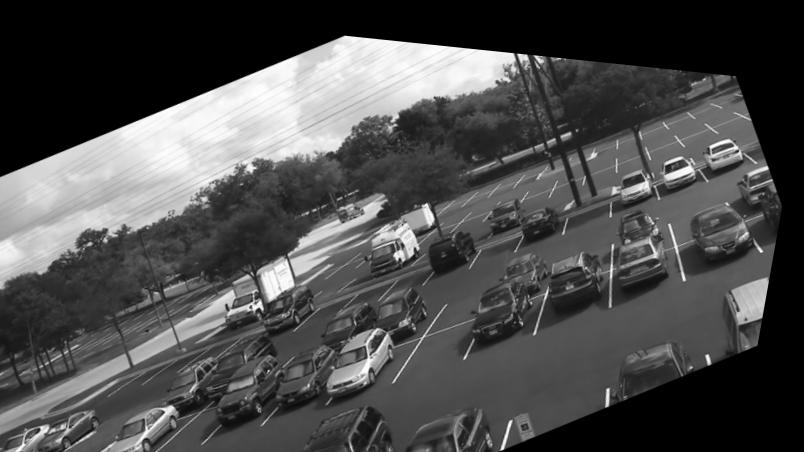empty: (518, 348, 616, 436), (404, 306, 480, 371), (170, 401, 232, 452), (125, 355, 187, 387), (567, 184, 617, 222), (673, 171, 725, 207), (449, 271, 489, 312), (162, 346, 212, 378), (309, 289, 360, 320), (354, 270, 404, 298), (482, 224, 526, 255), (339, 242, 380, 267), (207, 331, 250, 354), (650, 124, 689, 149), (396, 258, 437, 281), (572, 221, 611, 245), (552, 163, 589, 187), (681, 111, 719, 134), (587, 149, 623, 173), (287, 329, 325, 351), (621, 137, 654, 160), (713, 97, 752, 116), (561, 151, 593, 174), (676, 104, 710, 125), (459, 201, 494, 221), (429, 212, 463, 232), (522, 149, 550, 173), (618, 130, 651, 149), (590, 139, 619, 160), (646, 117, 679, 135), (619, 114, 646, 136), (531, 163, 562, 182), (444, 196, 475, 215), (732, 108, 760, 129), (504, 172, 533, 192), (694, 117, 723, 137), (496, 164, 522, 185), (705, 93, 736, 110), (472, 187, 503, 204), (641, 105, 670, 123), (528, 175, 558, 192), (447, 184, 475, 201), (596, 123, 621, 142), (472, 175, 497, 192), (746, 127, 768, 146), (667, 96, 691, 113), (715, 77, 742, 92), (692, 88, 718, 102), (469, 215, 496, 226), (549, 186, 572, 197), (733, 86, 749, 96)
occupied: (417, 391, 511, 452), (319, 394, 416, 452), (342, 317, 416, 388), (717, 256, 777, 339), (230, 348, 297, 421), (632, 318, 702, 386), (691, 182, 759, 249), (481, 265, 545, 334), (287, 336, 352, 402), (558, 235, 612, 304), (123, 400, 194, 452), (624, 215, 677, 279), (266, 277, 327, 331), (223, 329, 286, 377), (378, 208, 428, 268), (331, 291, 390, 341), (51, 406, 114, 452), (435, 220, 486, 273), (178, 350, 228, 404), (386, 276, 439, 325), (512, 240, 556, 282), (757, 164, 787, 219), (706, 121, 748, 159), (528, 194, 567, 232), (491, 186, 531, 222), (741, 148, 778, 186), (666, 140, 701, 175), (624, 154, 657, 191), (627, 196, 662, 226)
